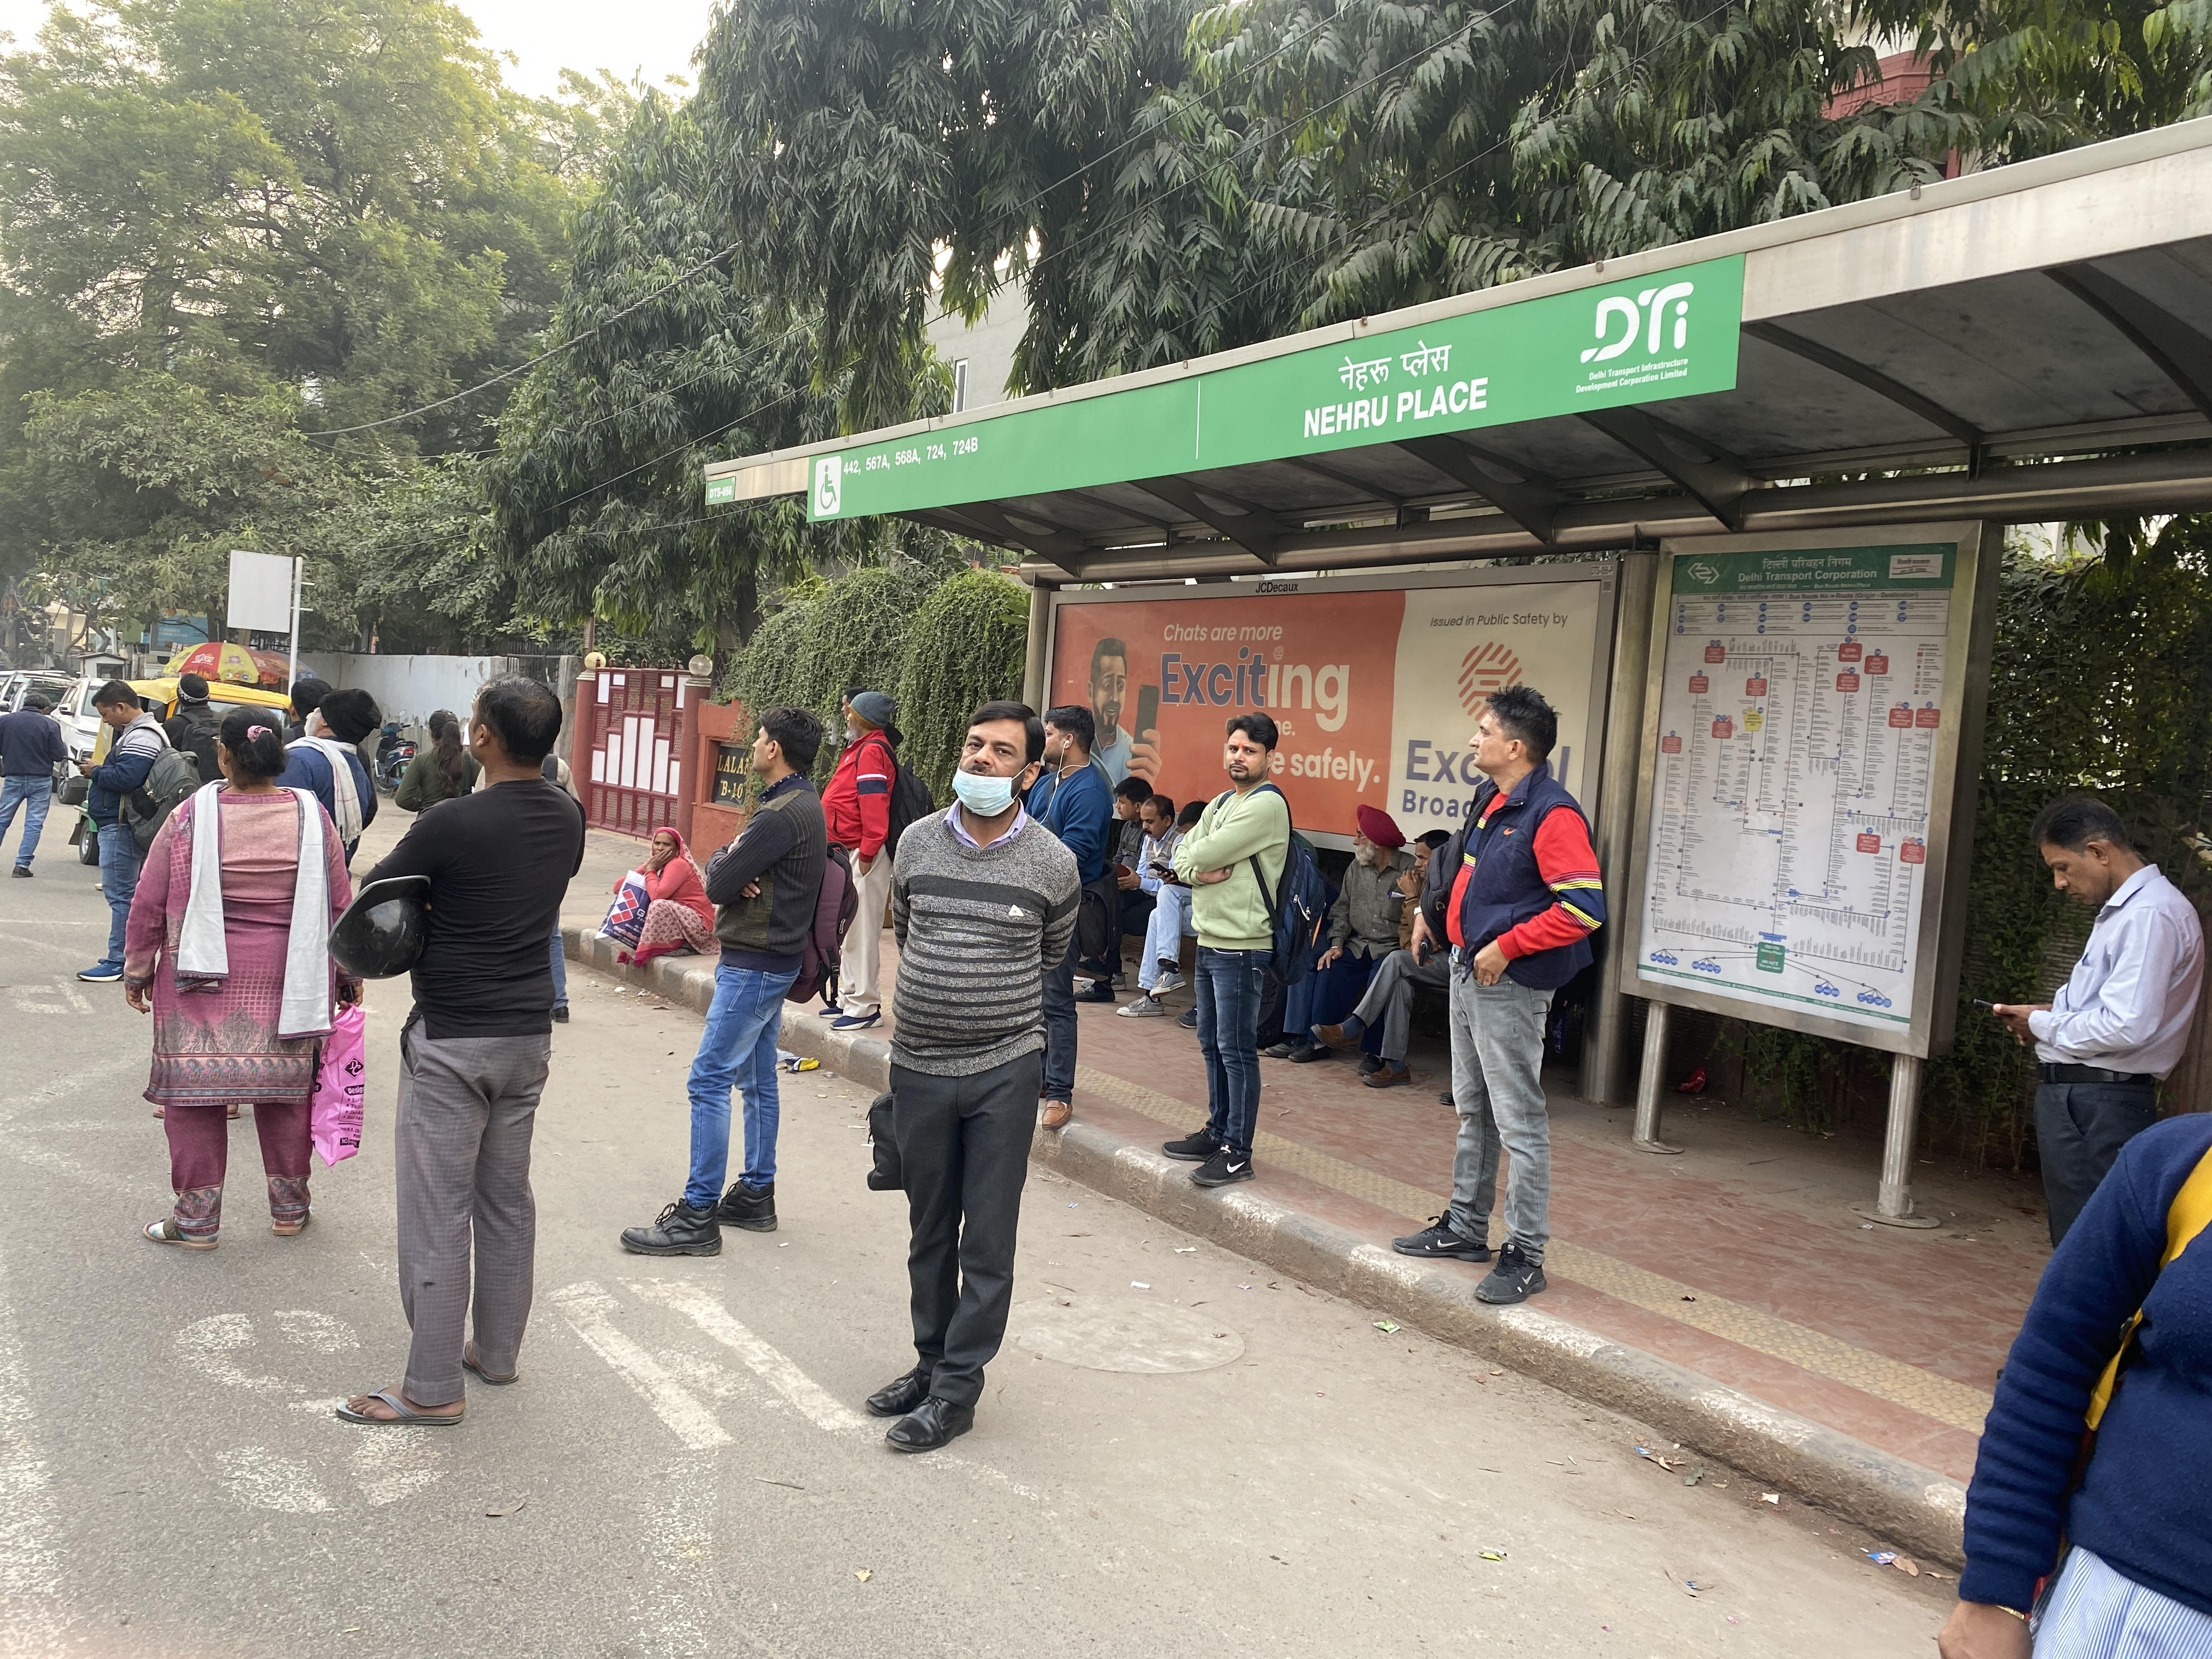Bus-stop-board: (801, 235, 1750, 538)
